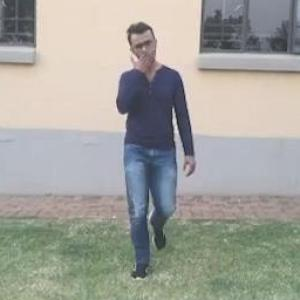follow: (111, 23, 182, 248)
